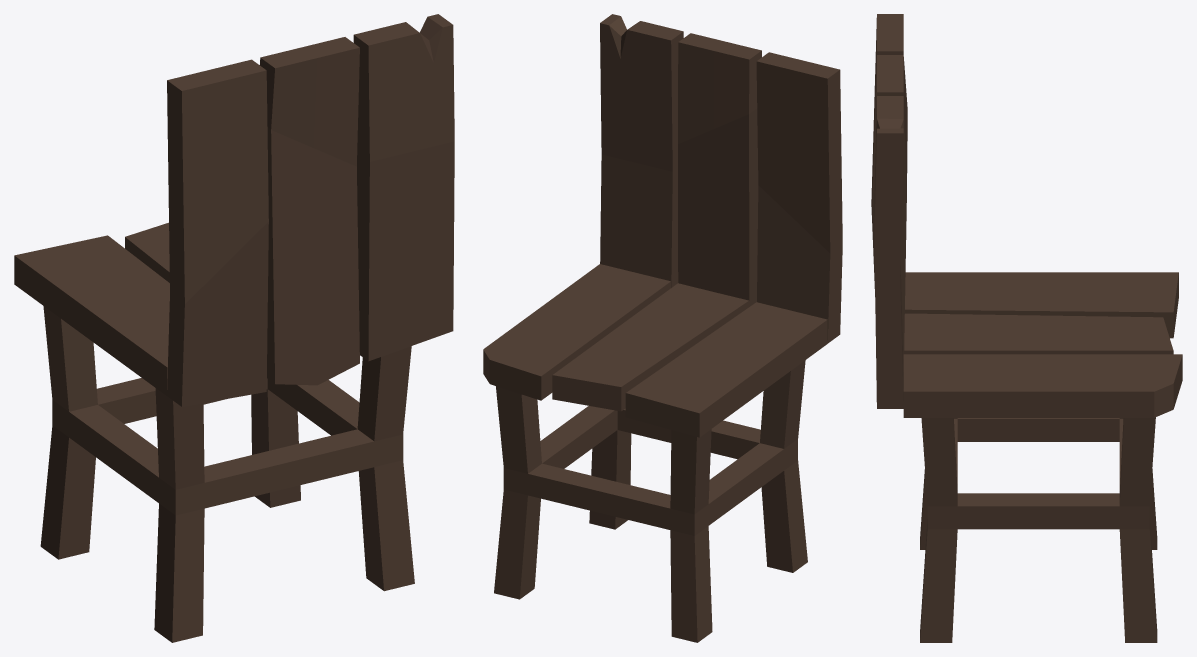
Rendered from chair_1.fbx.
3 views of the same model, side by side, from view 1: azimuth 30°, elevation 25°; view 2: azimuth 150°, elevation 25°; view 3: azimuth 270°, elevation 25° (orthographic). The views are drawn at different scales.
Parts seen in each view (by area): view 1: chair_1; view 2: chair_1; view 3: chair_1.
Part boxes in pixels (bbox=[...]): chair_1: bbox=[14, 14, 454, 642]; chair_1: bbox=[483, 14, 842, 642]; chair_1: bbox=[871, 14, 1182, 642].
Size of the model in its own units: 69.14 by 139 by 76.23.
